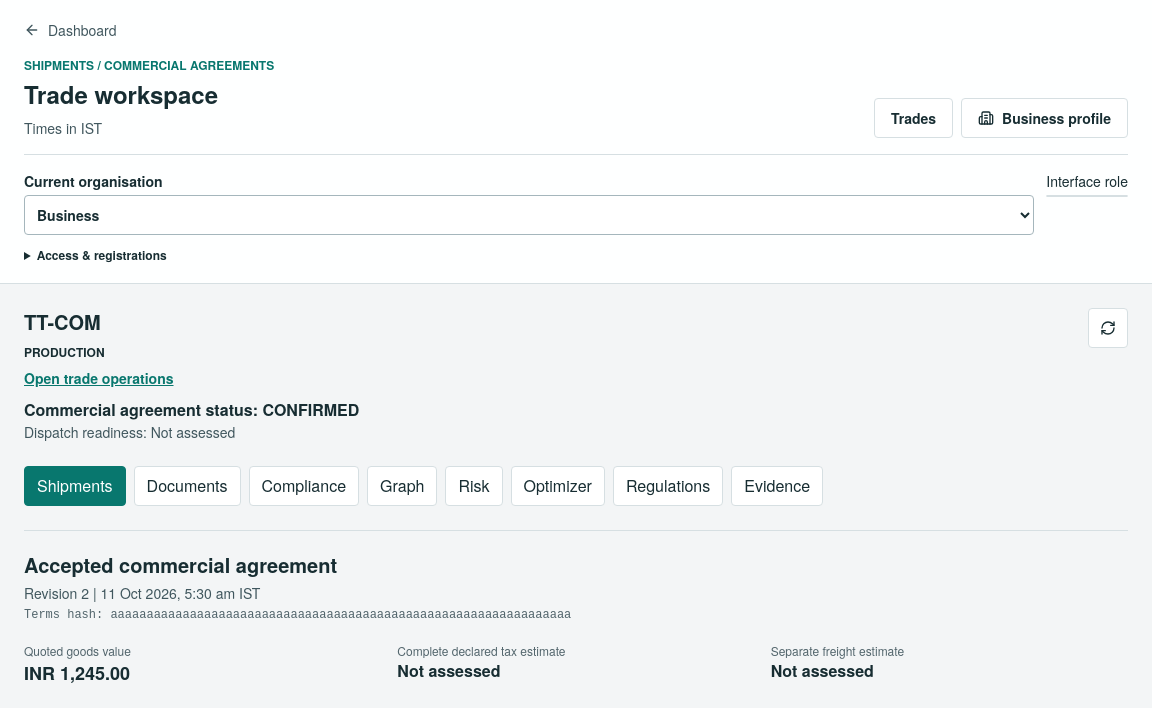
it: shows accepted agreement separately, never fabricates future module results or approval buttons
expect the heading "Accepted commercial agreement" is shown: met, box [24, 550, 337, 579]
expect the text "Dispatch readiness: Not assessed" is shown: met, box [24, 422, 235, 442]
What coordinates should you click on to do the following:
click the button "Risk"
I would click on:
 (474, 486)
Its box is [446, 466, 503, 506].
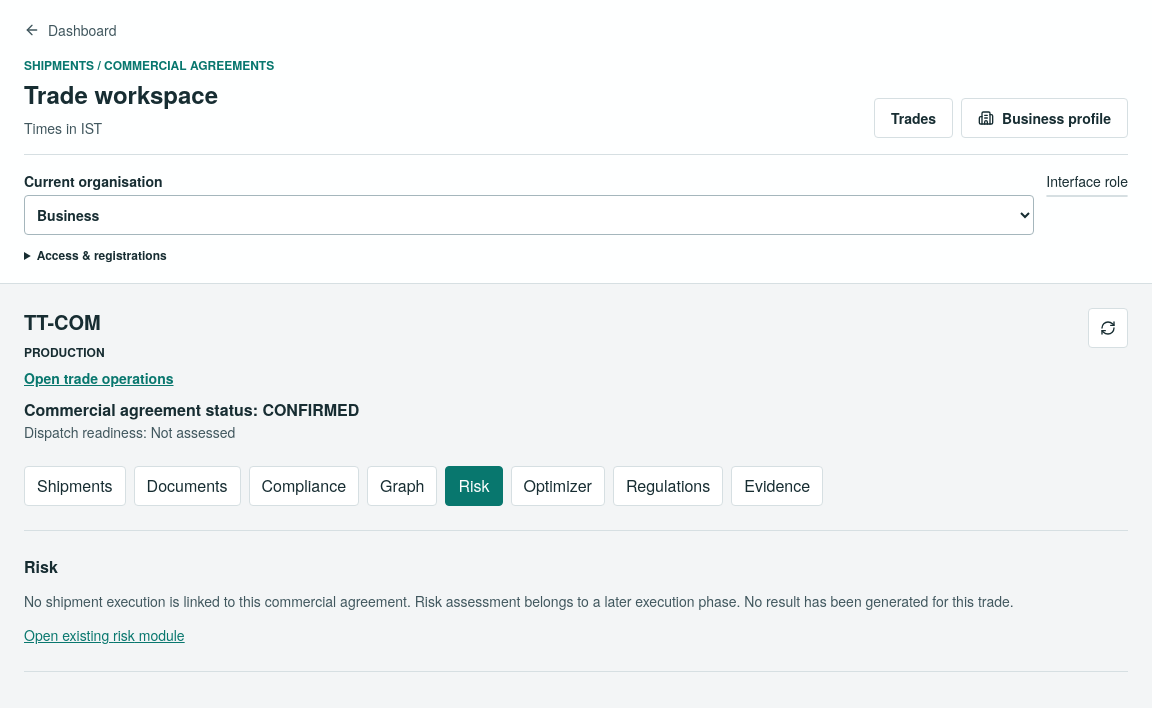
expect the text "No shipment execution is linked" is shown: met, box [24, 591, 411, 611]
